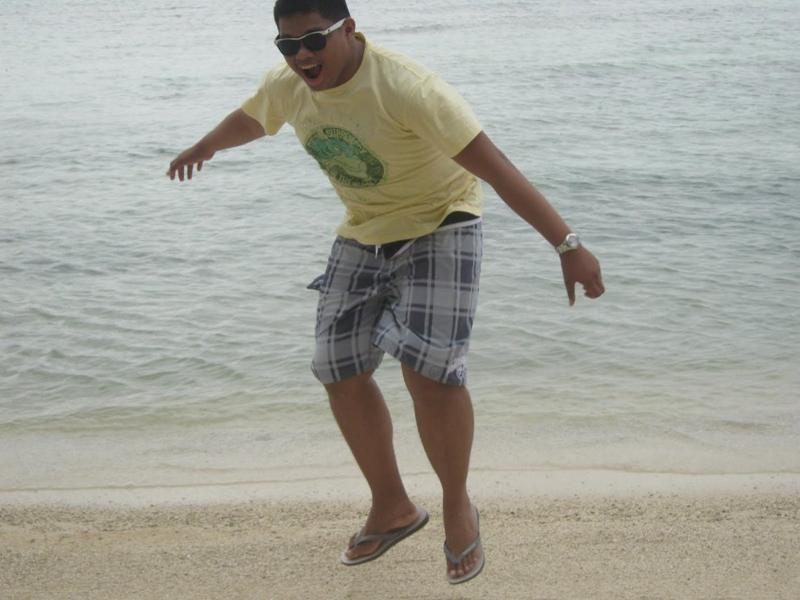person: (165, 3, 602, 585)
